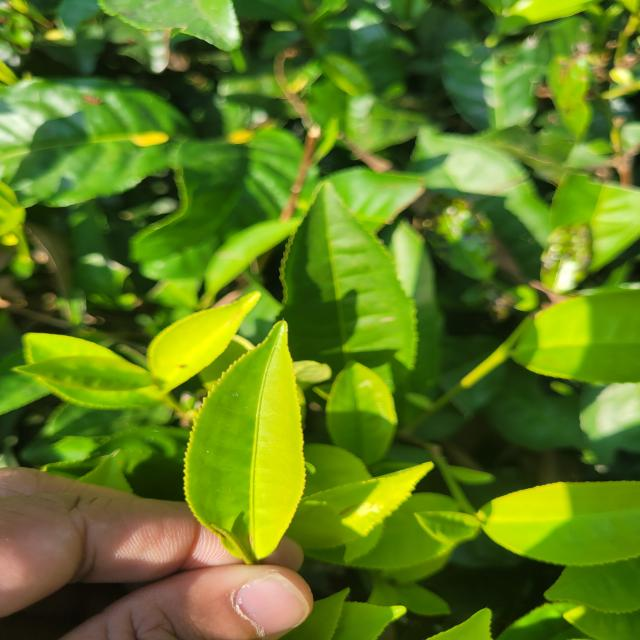Catagory A 1-2 days: (176, 312, 315, 567)
